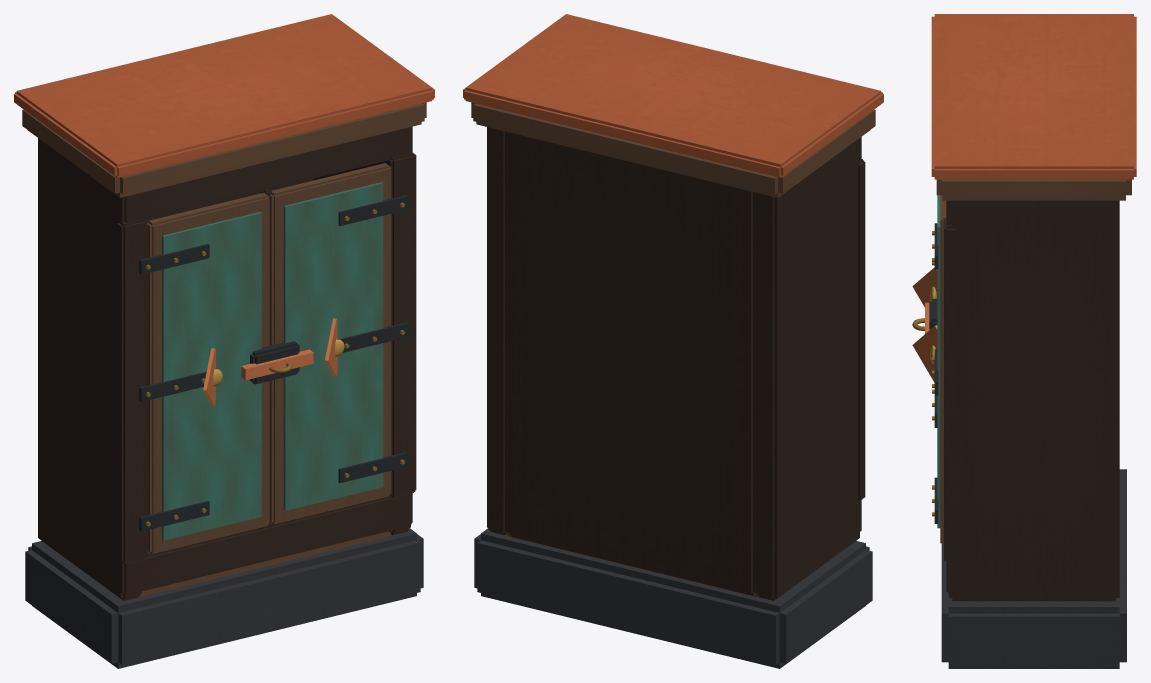
File: cabinet_vaulted_copper.glb
3 renders of one model, left to right at view 1: azimuth 30°, elevation 25°; view 2: azimuth 150°, elevation 25°; view 3: azimuth 270°, elevation 25°, orthographic.
Parts seen in each view (by area): view 1: cabinet_vaulted_copper; view 2: cabinet_vaulted_copper; view 3: cabinet_vaulted_copper.
Boxes of the visible parts, <box> form: cabinet_vaulted_copper: <box>14,14,434,668</box>; cabinet_vaulted_copper: <box>463,14,883,668</box>; cabinet_vaulted_copper: <box>912,14,1136,668</box>.
Size of the model in its own units: 1.5 by 2.29 by 0.92.
1 material, 1 textured.
